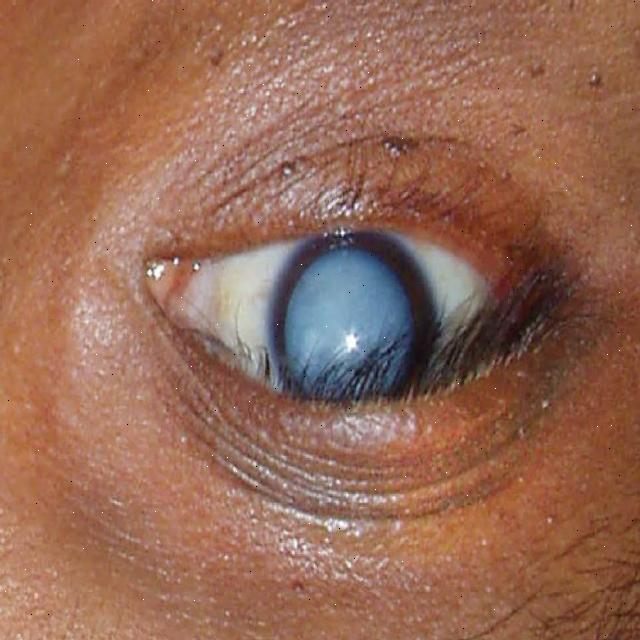Cataract: (270, 224, 438, 443)
